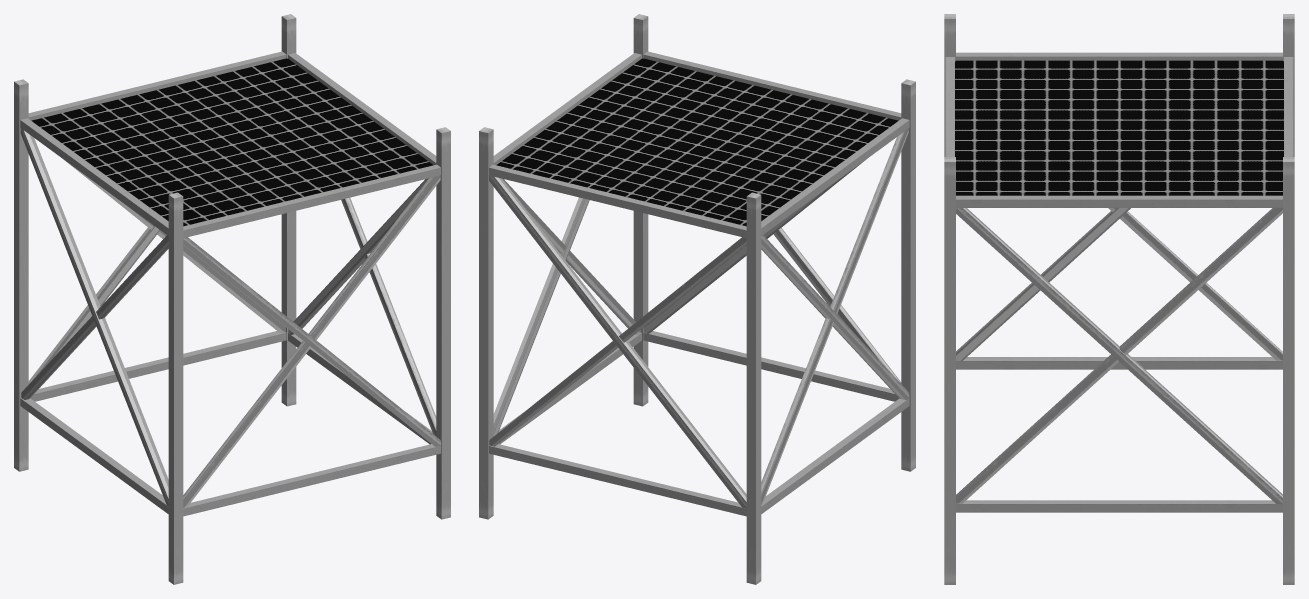
Rendered from scaffolding_block.fbx.
3 renders of one model, left to right at view 1: azimuth 30°, elevation 25°; view 2: azimuth 150°, elevation 25°; view 3: azimuth 270°, elevation 25°, orthographic. The views are drawn at different scales.
Visible parts, largest first — view 1: block, Cube.001, Cylinder, Cube; view 2: block, Cube.001, Cylinder, Cube; view 3: block, Cube, Cube.001, Cylinder.
Boxes of the visible parts, bbox=[...] form: block: bbox=[31, 58, 433, 226]; Cube.001: bbox=[20, 128, 440, 507]; Cylinder: bbox=[14, 14, 450, 584]; Cube: bbox=[20, 51, 440, 516]; block: bbox=[496, 58, 898, 226]; Cube.001: bbox=[489, 128, 909, 508]; Cylinder: bbox=[479, 14, 915, 584]; Cube: bbox=[489, 51, 909, 516]; block: bbox=[955, 60, 1283, 195]; Cube: bbox=[945, 52, 1293, 512]; Cube.001: bbox=[956, 208, 1282, 503]; Cylinder: bbox=[944, 14, 1294, 584].
Size of what is drawn, in the model's own units: 300 by 400 by 300.
